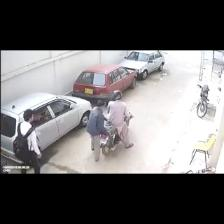person: (108, 91, 133, 148), (87, 101, 107, 161), (22, 131, 41, 173)
